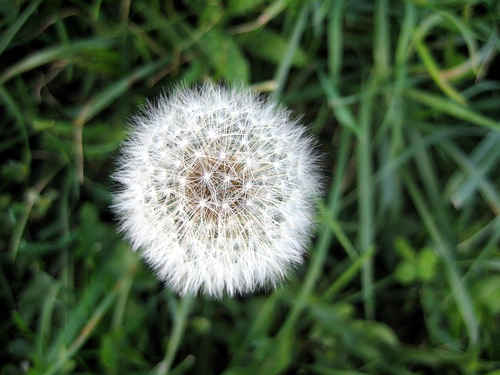dandelion white: (104, 74, 331, 301)
